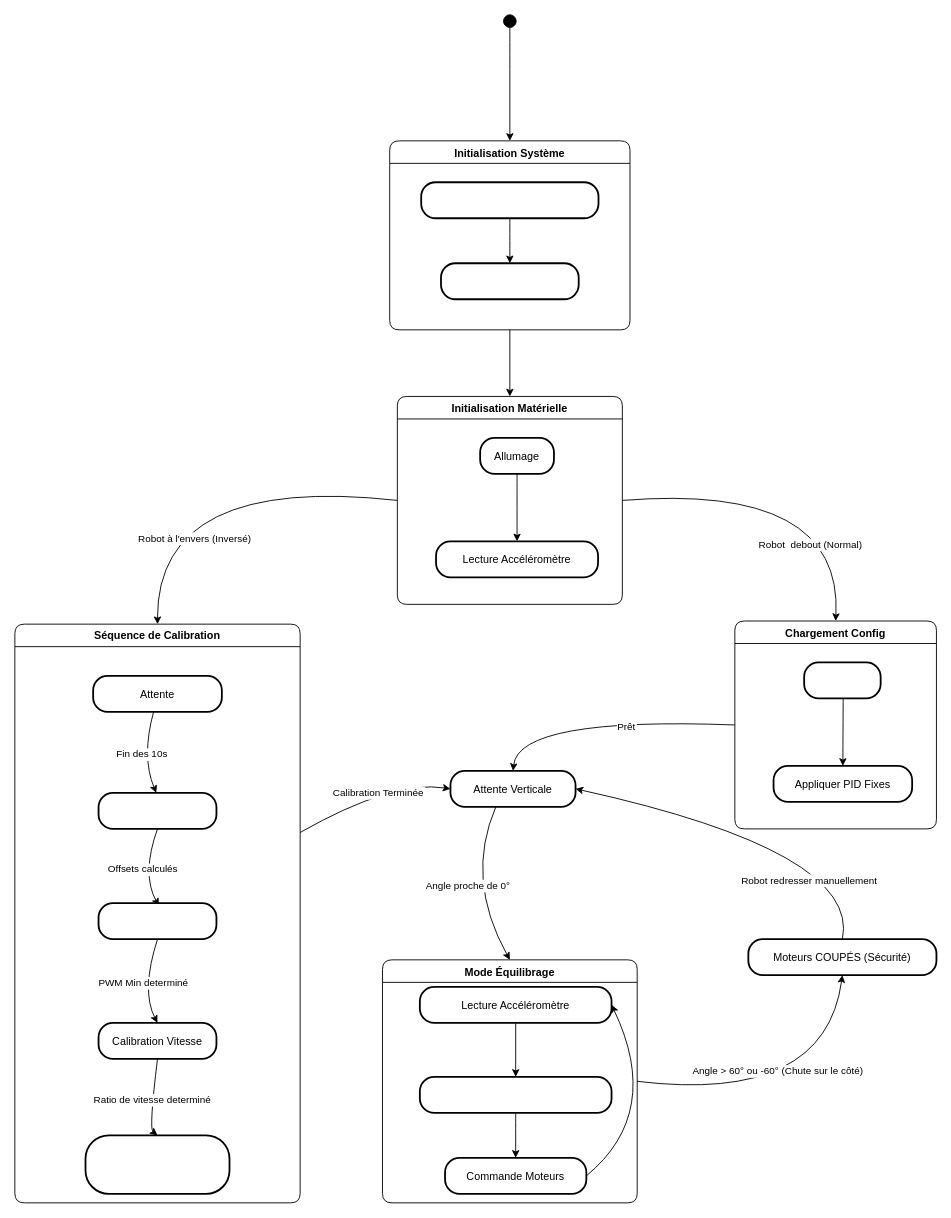
Some shapes in this 951 by 1218 pixel diagram are drawn without their labels. The shapes that lost their labels are listed below. From the top down, each one's centre as x and y in pixels, then its label:
At pixel 509 200: "Configurer I/O & Moteurs".
At pixel 509 281: "Initialiser MPU6050".
At pixel 842 680: "Lire Flash".
At pixel 157 810: "Calibration MPU".
At pixel 157 921: "Calibration Deadzone".
At pixel 515 1094: "Calcul PID (Angle)".
At pixel 157 1164: "Sauvegarde dans la flash".
